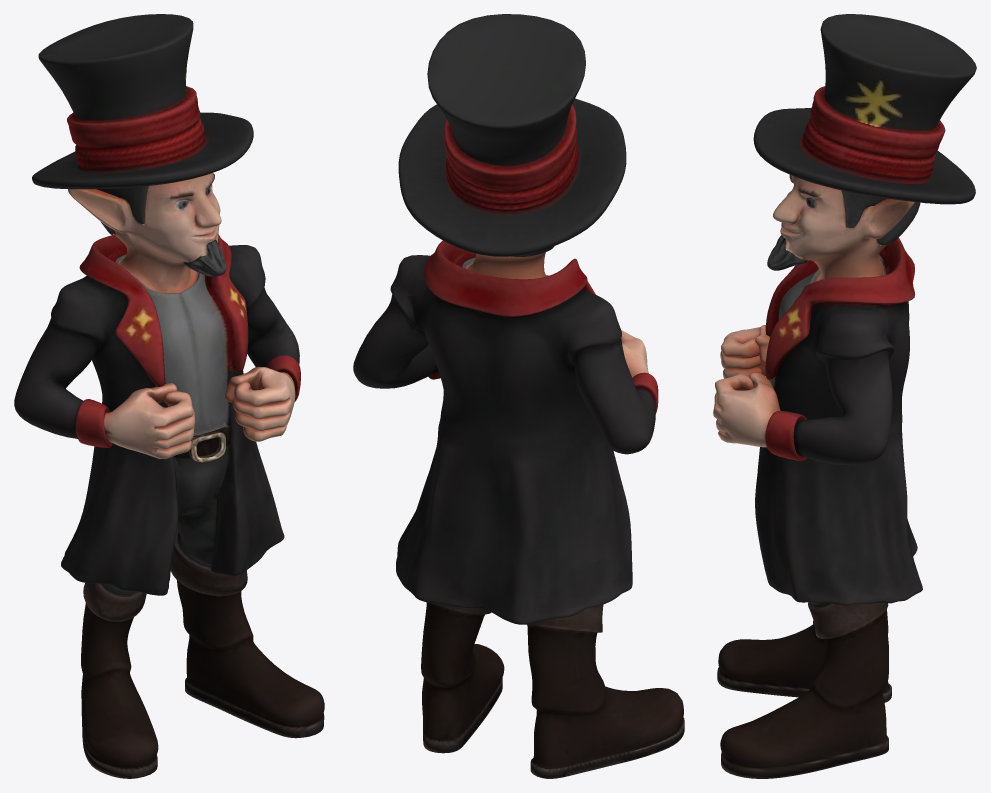
File: MZ4250 - Gnome Merchant with Big Hat (Magician).glb
3 renders of one model, left to right at view 1: azimuth 30°, elevation 25°; view 2: azimuth 150°, elevation 25°; view 3: azimuth 270°, elevation 25°, orthographic. The views are drawn at different scales.
Parts seen in each view (by area): view 1: Body.002; view 2: Body.002; view 3: Body.002.
Boxes of the visible parts, x1,y1,x2,y2 form: Body.002: (14,14,324,778); Body.002: (353,14,684,778); Body.002: (713,14,976,778).
Bounding box in the file's own units: 0.3101 × 0.7446 × 0.2594.
1 material, 1 textured.
